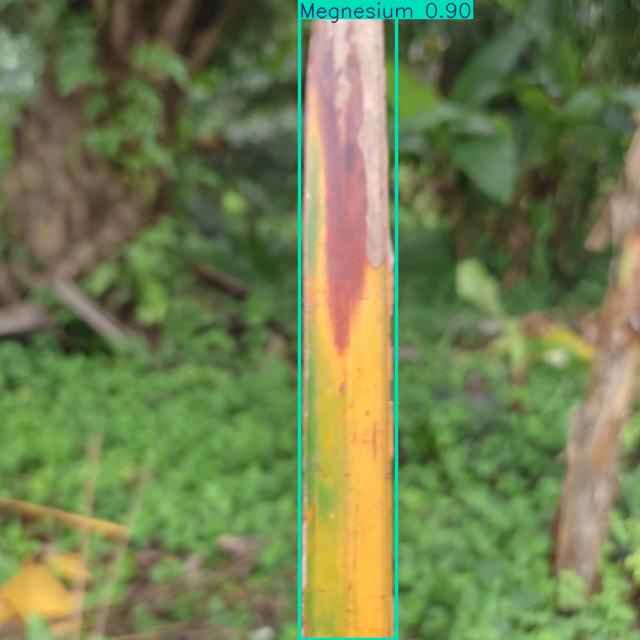Megnesium: (299, 0, 397, 640)
